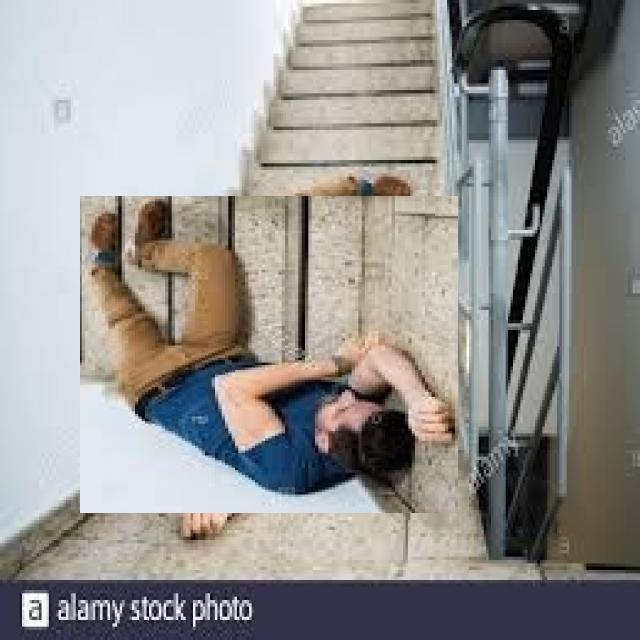Fall: (65, 198, 453, 520)
